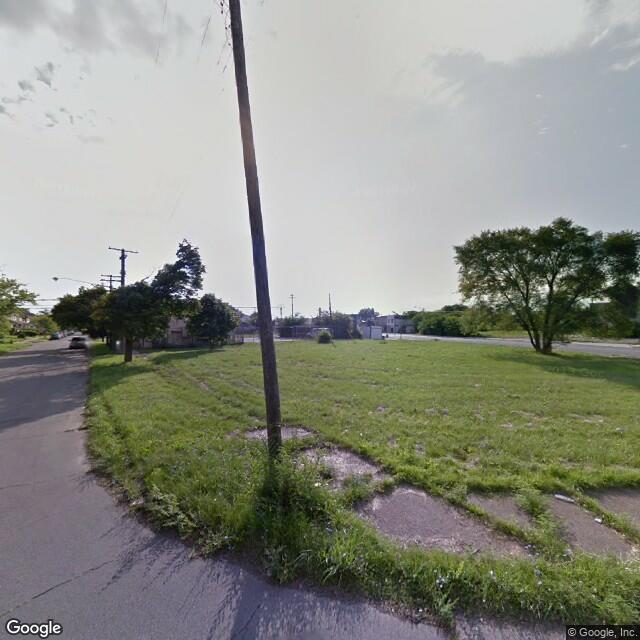litter: (554, 491, 581, 510), (127, 495, 144, 504), (593, 515, 604, 526), (314, 479, 323, 486)
